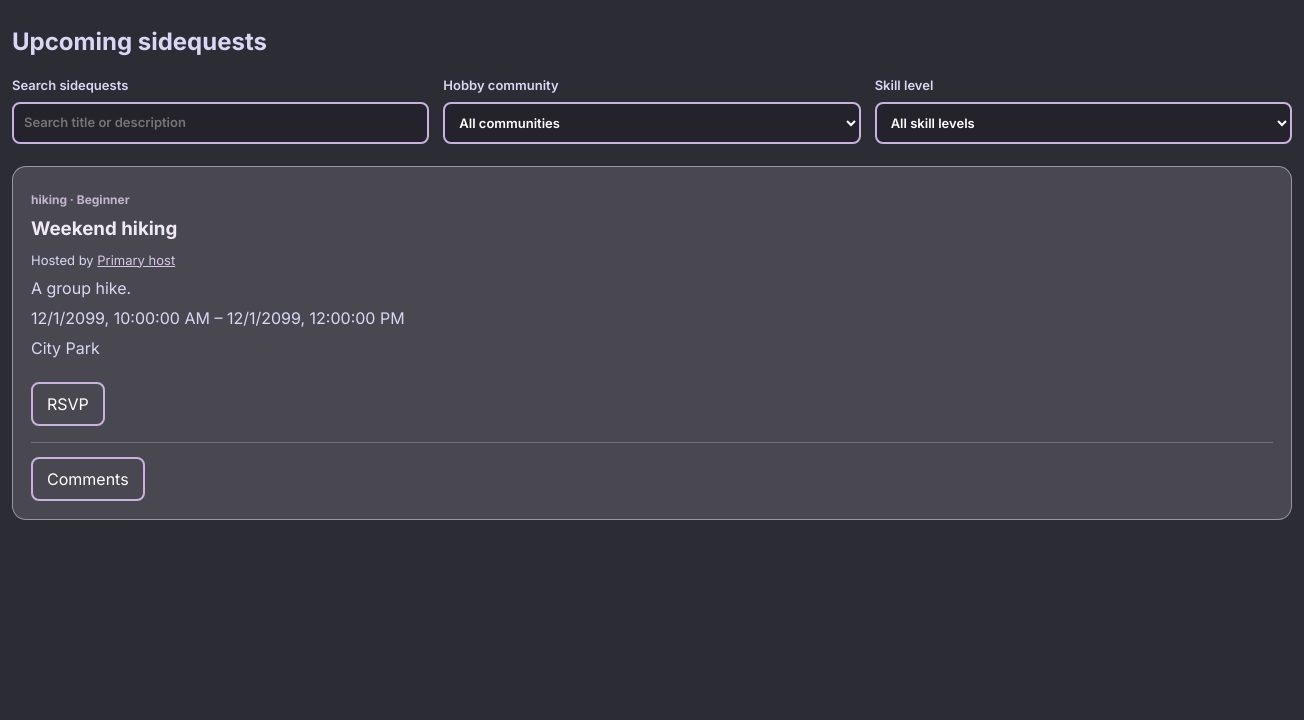
Test: RSVP saves attendance without starting Google Calendar authorization
This screenshot has width=1304, height=720.
Check: the button "Add to calendar" is not shown
Click the button "RSVP" at coordinates (68, 404), box [31,382,105,426]
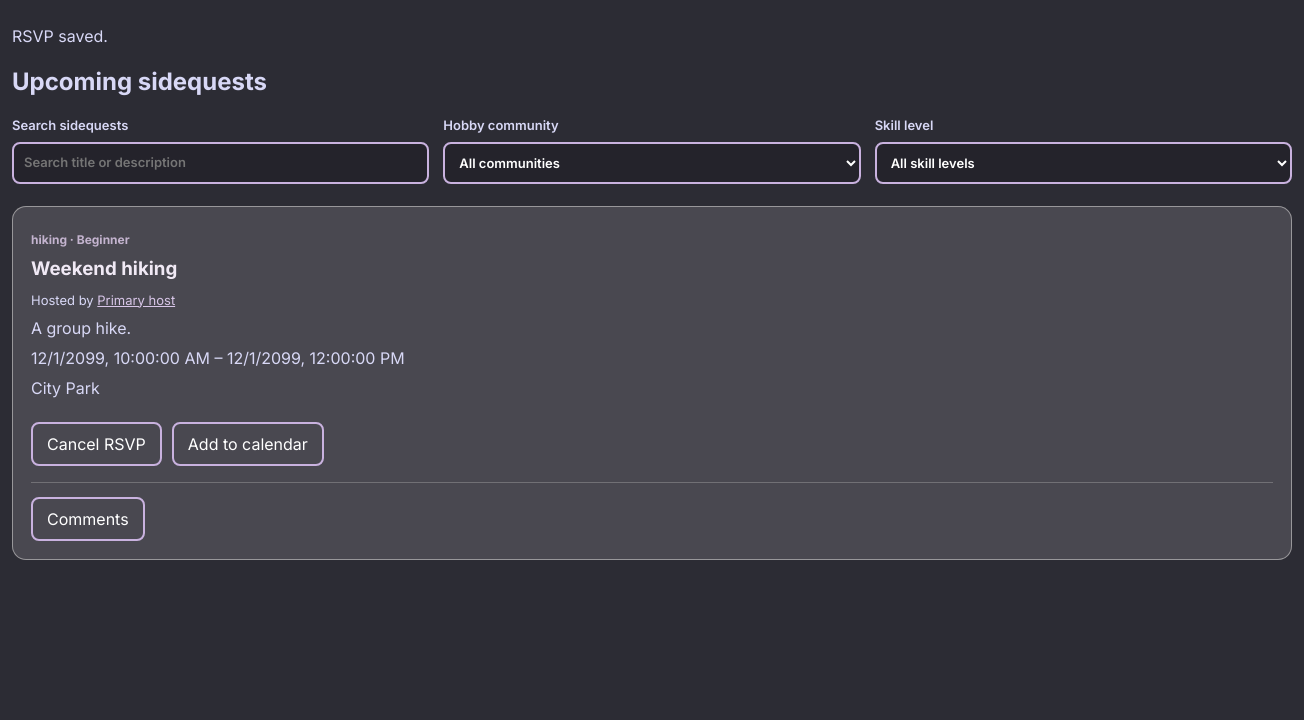
Check: the button "Cancel RSVP" is enabled, box [31,422,162,466]
Check: the button "Add to calendar" is shown, box [172,422,324,466]
